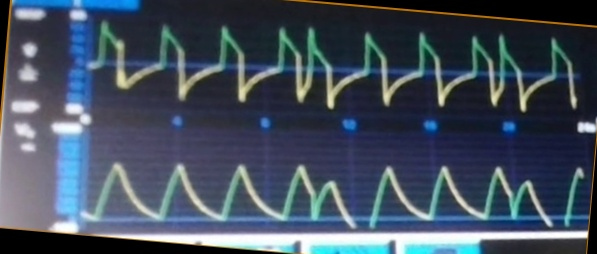Double_Triggering Flow: (95, 21, 562, 113)
Double_Triggering Volume: (112, 146, 584, 229)
